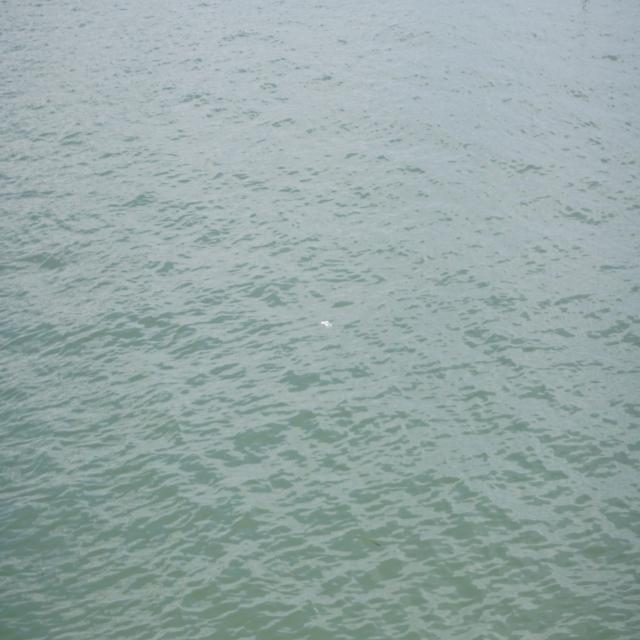Bungkus Makanan: (321, 320, 334, 331)
